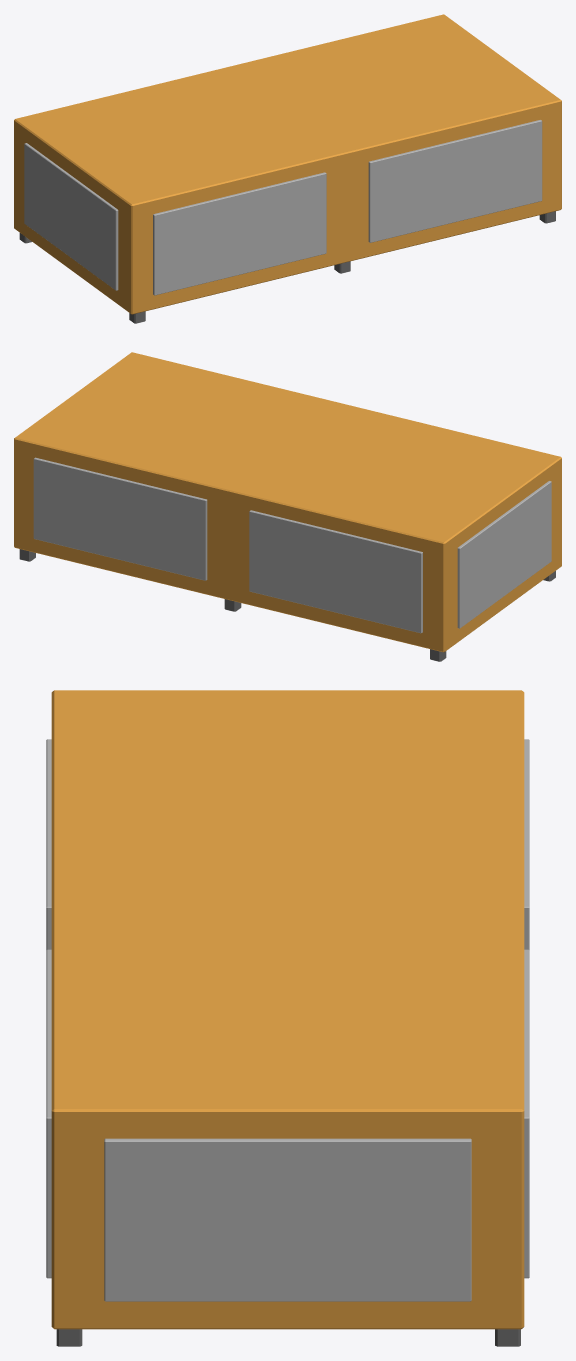
The model's file is aisle.fbx.
3 views of the same model, one above another, from view 1: azimuth 30°, elevation 25°; view 2: azimuth 150°, elevation 25°; view 3: azimuth 270°, elevation 25° (orthographic). The views are drawn at different scales.
Visible parts, largest first — view 1: polySurface4; view 2: polySurface4; view 3: polySurface4.
Boxes of the visible parts, <box> form: polySurface4: <box>14,14,561,323</box>; polySurface4: <box>14,352,561,661</box>; polySurface4: <box>46,690,529,1346</box>.
Bounding box in the file's own units: 301 × 79.55 × 144.
